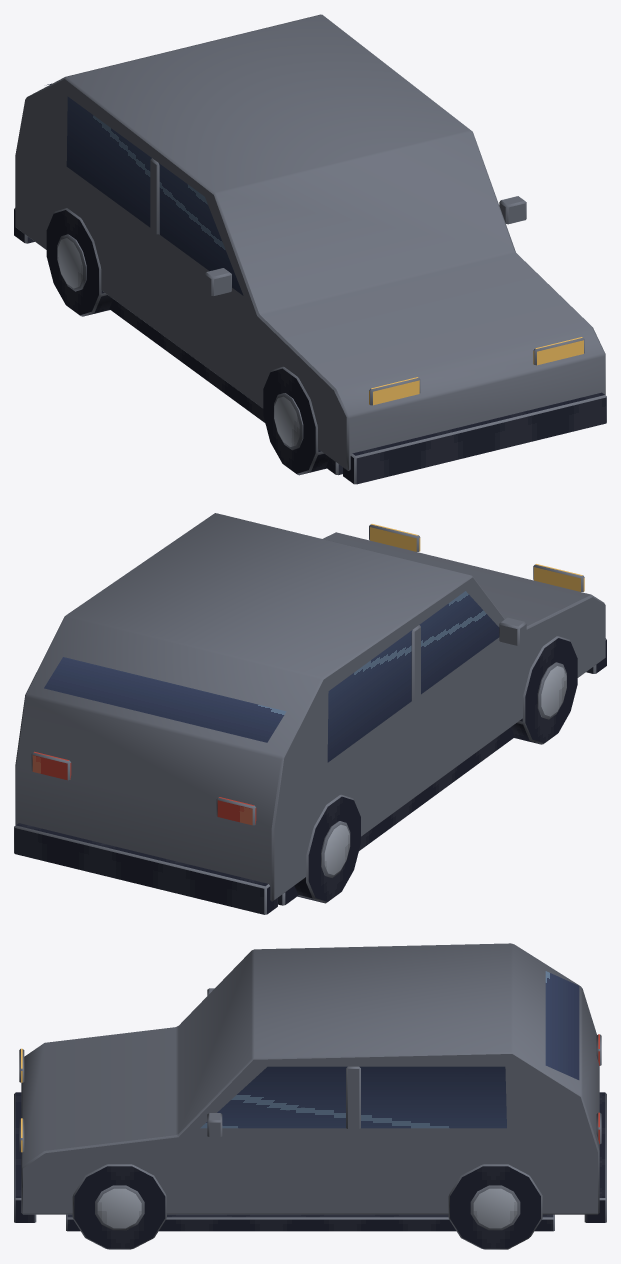
The model's file is car_3.glb.
3 renders of one model, top to bottom at view 1: azimuth 30°, elevation 25°; view 2: azimuth 150°, elevation 25°; view 3: azimuth 270°, elevation 25°, orthographic. The views are drawn at different scales.
Parts seen in each view (by area): view 1: car_4; view 2: car_4; view 3: car_4.
Part boxes in pixels (bbox=[...]): car_4: bbox=[14, 14, 606, 484]; car_4: bbox=[14, 513, 606, 914]; car_4: bbox=[14, 943, 606, 1249].
Size of the model in its own units: 2.13 by 1.47 by 4.
6 materials, 6 textured.
